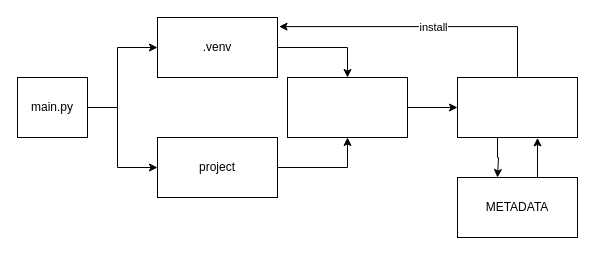
Image size: 595x255. Some labels were removed from this diagram. Each missing label, with the centre of its shape:
"pip" belongs at point (517, 107).
"require" belongs at point (347, 107).
